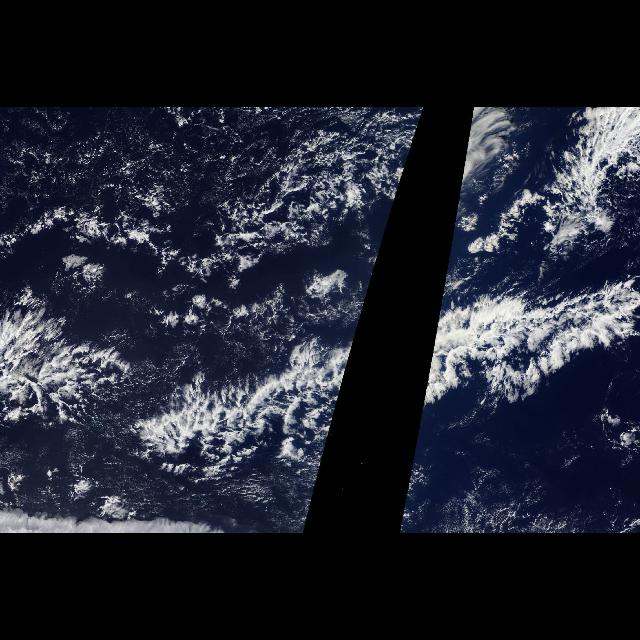Fish: (119, 276, 373, 488), (406, 276, 640, 488), (0, 255, 116, 430)
Sugar: (6, 122, 248, 200)
